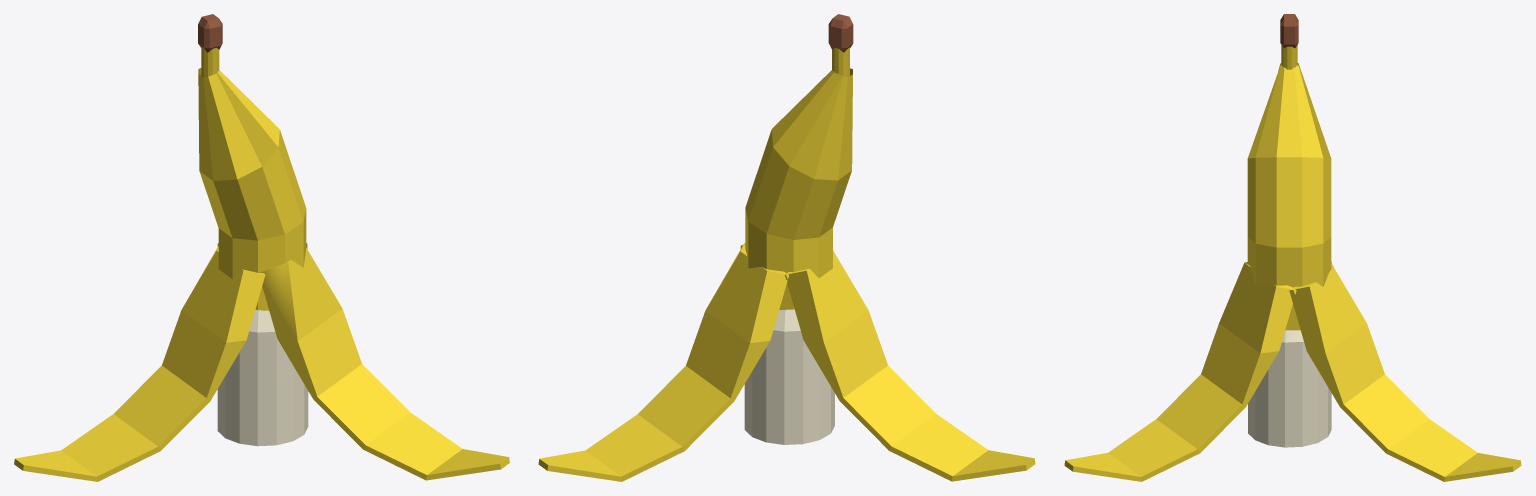
Rendered from bananapeel_animated_idle.glb.
3 renders of one model, left to right at view 1: azimuth 30°, elevation 25°; view 2: azimuth 150°, elevation 25°; view 3: azimuth 270°, elevation 25°, orthographic. The views are drawn at different scales.
Visible parts, largest first — view 1: torus; view 2: torus; view 3: torus.
Boxes of the visible parts, left/top/right/bottom form: torus: left=14, top=14, right=509, bottom=481; torus: left=538, top=14, right=1035, bottom=481; torus: left=1064, top=14, right=1521, bottom=481.
Size of the model in its own units: 0.3009 by 0.325 by 0.3453.
1 material, 1 textured.
